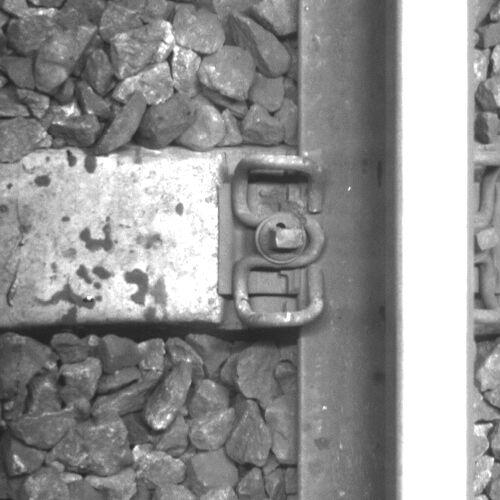rail: (395, 1, 474, 500)
tie_concr: (1, 151, 299, 322)
vossloh: (219, 151, 327, 329)
